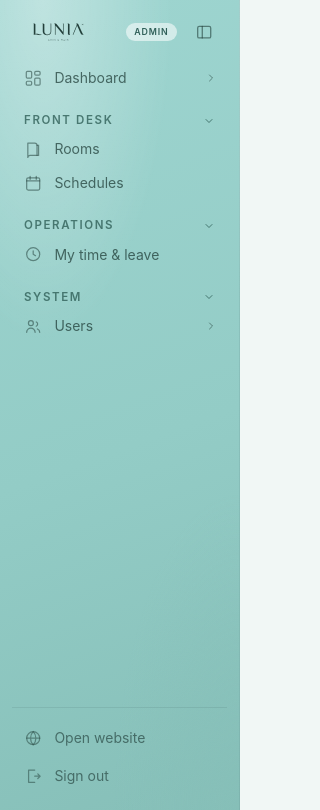
AdminNav › shows Roles/Rooms/Schedules for a user with STAFF_MANAGE
Expected: the link "Rooms" is shown, [24,140,100,158]
Click the button named "Show: Roles".
click(211, 326)  # box [199,314,223,338]
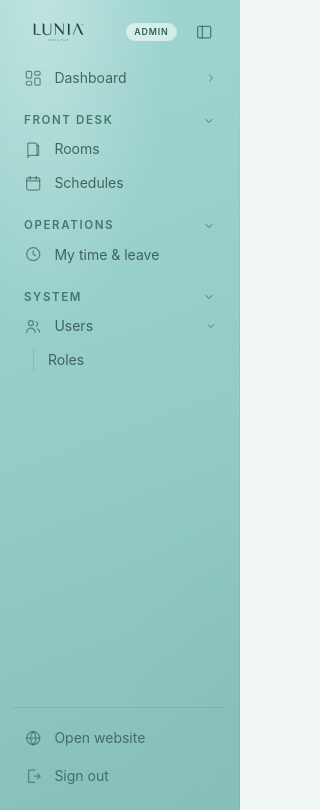
Expected: the link "Schedules" is shown, [24,174,124,192]
Now the link "Roles" is shown, box [48,351,84,368]
